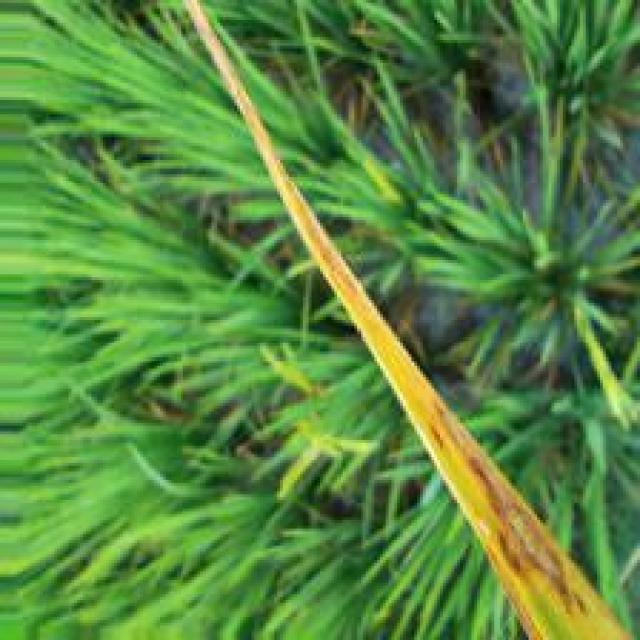Bacterial_Leaf_Blight: (184, 1, 640, 640)
